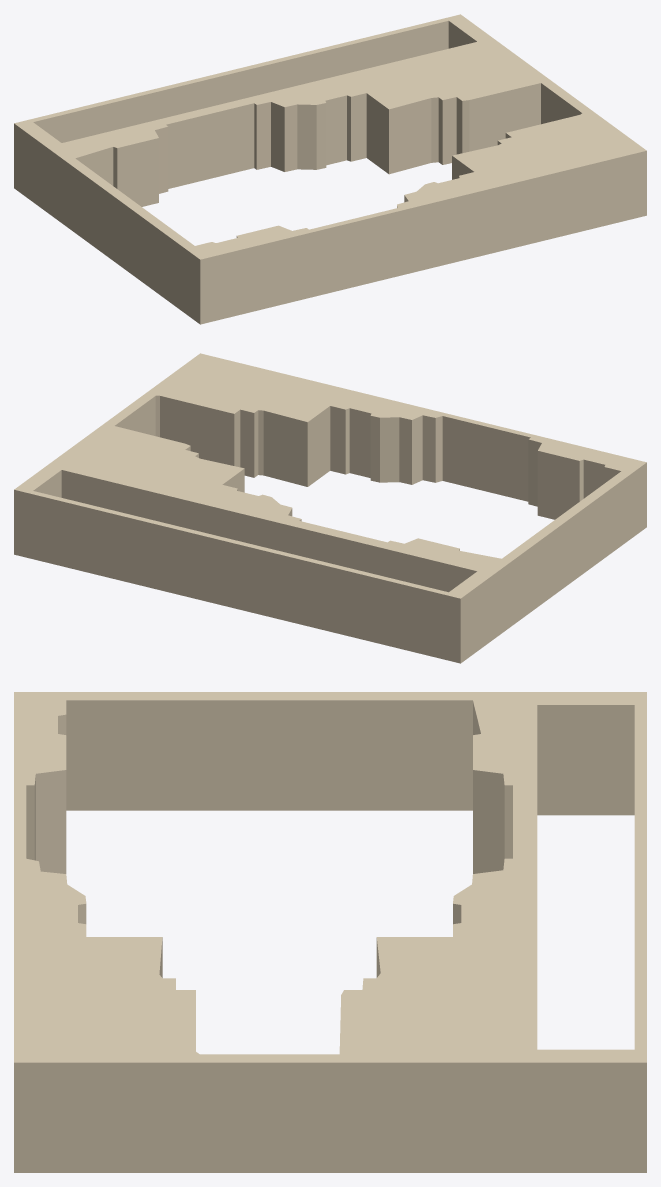
Rendered from insert.glb.
The picture shows the model from 3 angles, top to bottom: view 1: azimuth 30°, elevation 25°; view 2: azimuth 150°, elevation 25°; view 3: azimuth 270°, elevation 25°; orthographic projection. The views are drawn at different scales.
Parts seen in each view (by area): view 1: insert kraft; view 2: insert kraft; view 3: insert kraft.
Part boxes in pixels (x1=…): insert kraft: x1=14, y1=14, x2=646, y2=324; insert kraft: x1=14, y1=353, x2=646, y2=663; insert kraft: x1=14, y1=692, x2=646, y2=1172.
Size of the model in its own units: 288 by 40 by 208.
